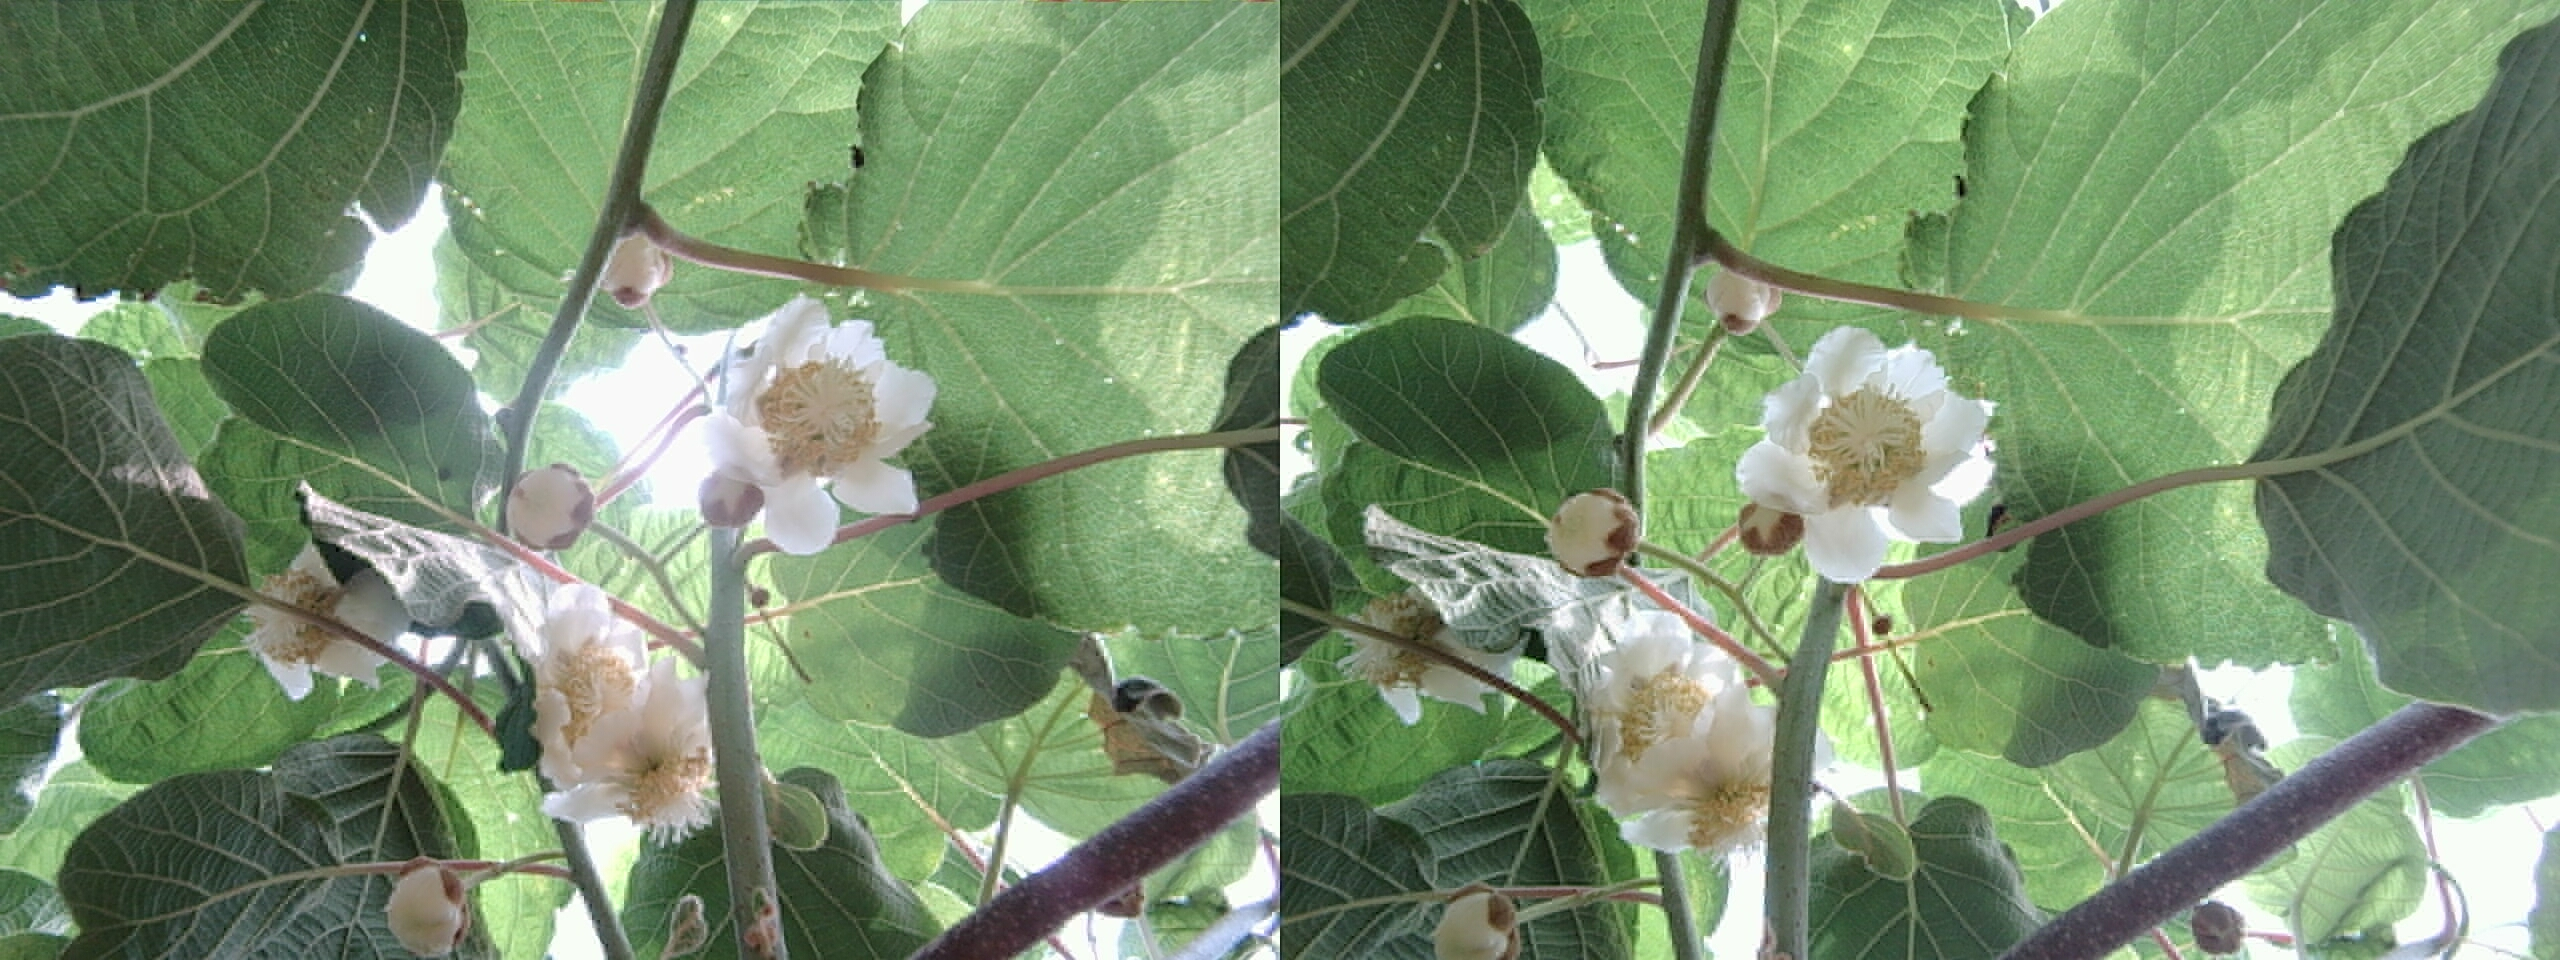flower: (1760, 318, 2003, 580), (707, 297, 926, 553), (513, 594, 712, 836), (1603, 702, 1811, 856)
